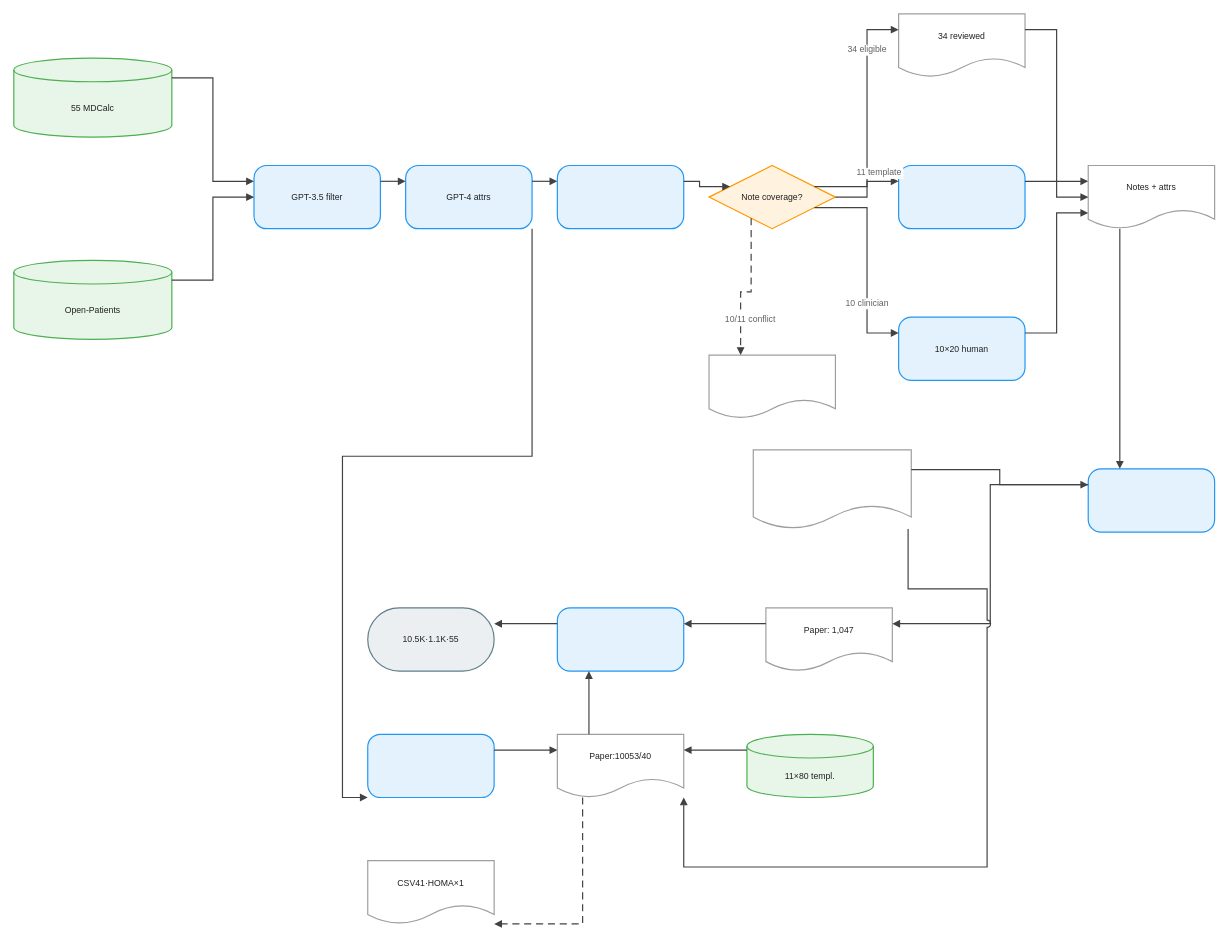
Image size: 1229x945. Some labels were removed from this diagram. Each missing label, with the centre of its shape:
11×20 templ.: point (961, 197)
55 templates: point (832, 489)
Answers/steps: point (1151, 500)
attrs not rev.: point (430, 765)
Main↔Appx/CSV: point (772, 386)
Medical review: point (620, 197)
Verified fixes: point (620, 639)
